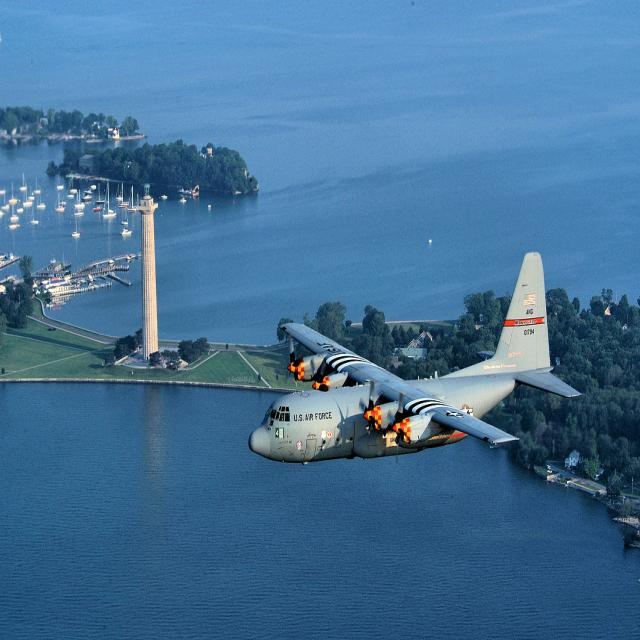MIL_Plane: (0, 219, 262, 434)
